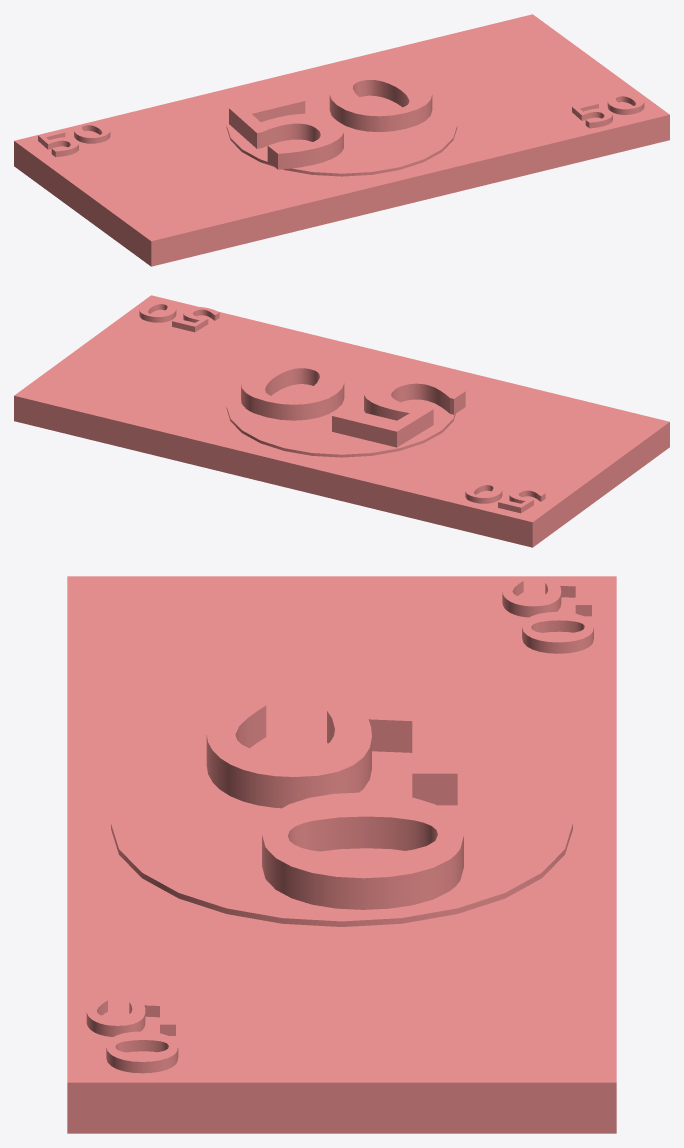
The picture shows the model from 3 angles, top to bottom: view 1: azimuth 30°, elevation 25°; view 2: azimuth 150°, elevation 25°; view 3: azimuth 270°, elevation 25°; orthographic projection. The views are drawn at different scales.
Visible parts, largest first — view 1: Group1, G_50_2, G_50_1, G_50_3; view 2: Group1, G_50_2, G_50_1, G_50_3; view 3: Group1, G_50_2, G_50_1, G_50_3.
Part boxes in pixels (x1,y1,x2,y2): Group1: (14, 14, 669, 266); G_50_2: (229, 72, 432, 169); G_50_1: (38, 122, 110, 156); G_50_3: (572, 93, 644, 128); Group1: (14, 295, 669, 547); G_50_2: (241, 361, 465, 447); G_50_1: (465, 482, 545, 513); G_50_3: (139, 301, 219, 332); Group1: (67, 576, 616, 1133); G_50_2: (206, 700, 463, 909); G_50_1: (502, 579, 593, 653); G_50_3: (86, 998, 178, 1073).
Size of the model in its own units: 12 by 0.9756 by 5.5.
